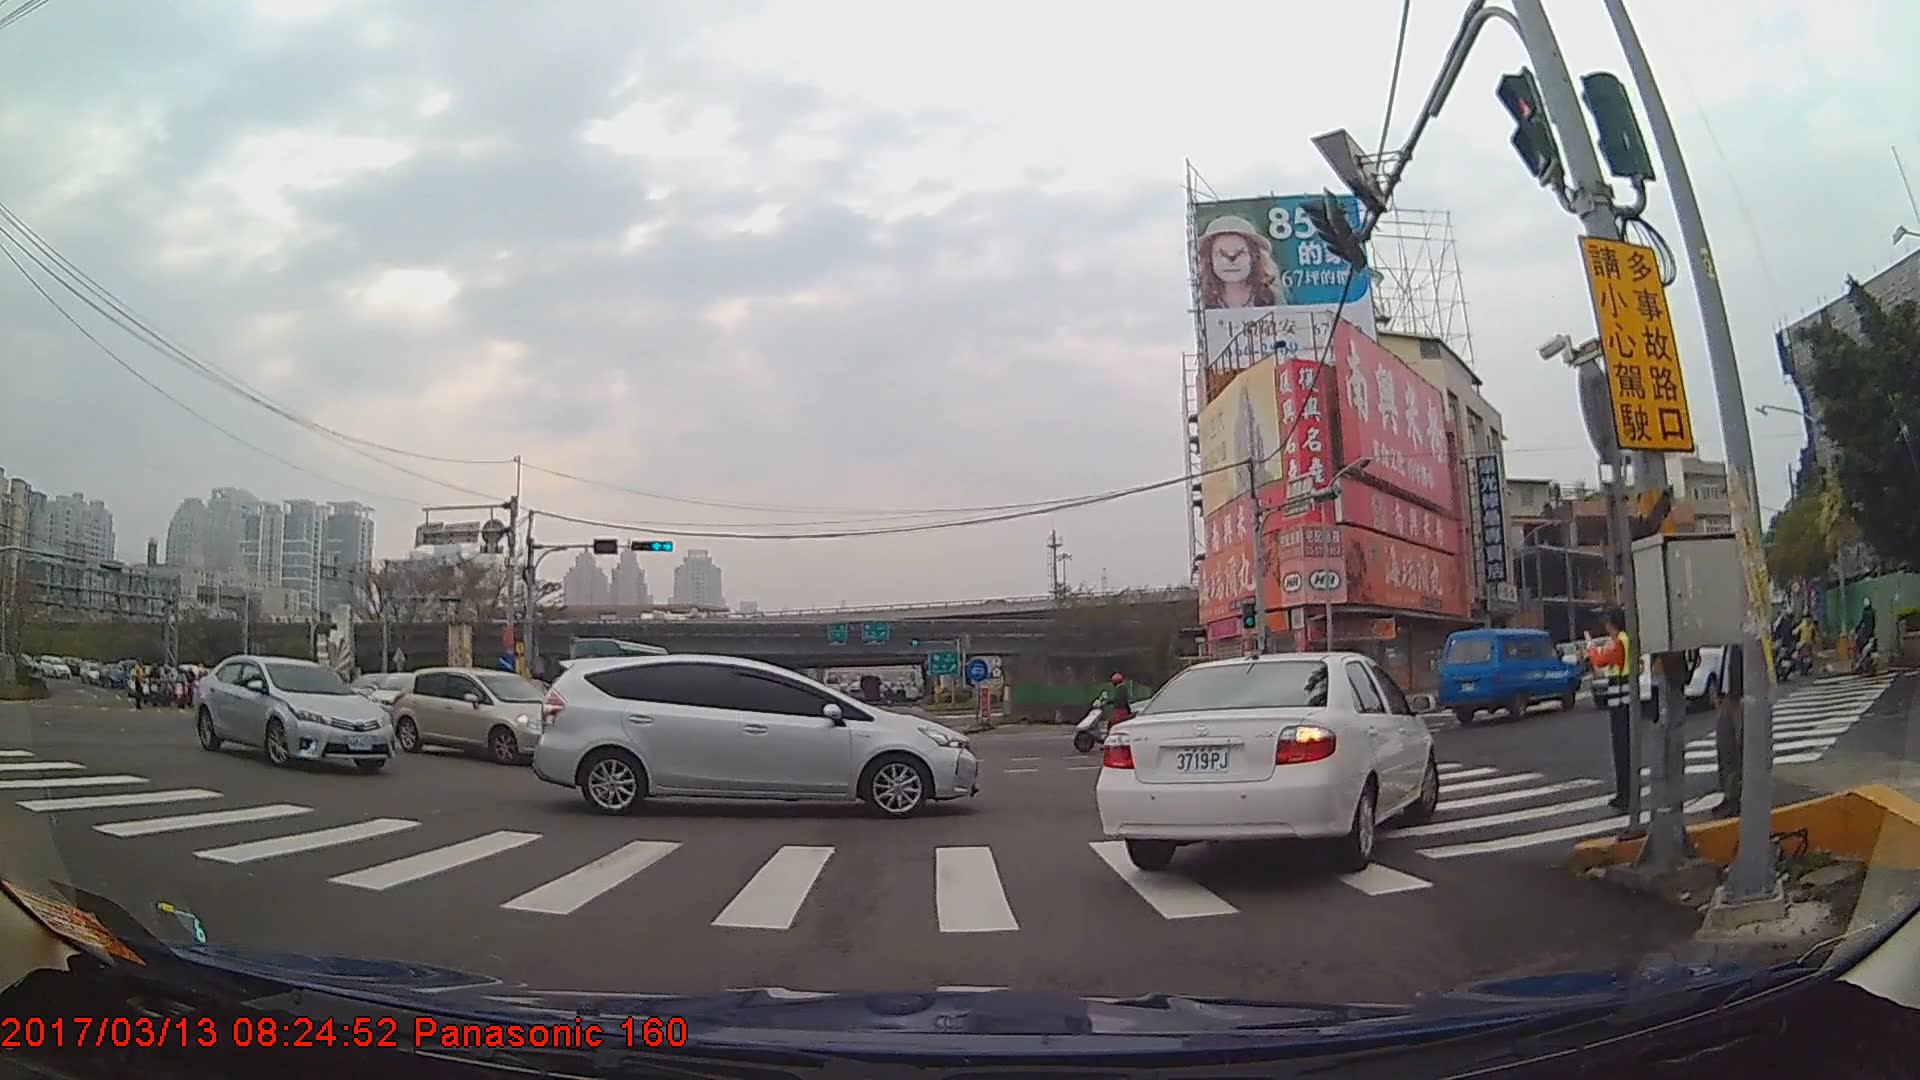pedestrian: (1689, 543, 1776, 830), (1595, 612, 1650, 825)
rider: (1073, 669, 1159, 754), (1843, 594, 1882, 679), (1774, 606, 1801, 682), (1794, 607, 1817, 682)
vehicle: (1094, 649, 1437, 874), (528, 652, 975, 818), (192, 653, 395, 774), (390, 666, 570, 764), (1432, 626, 1579, 722)
